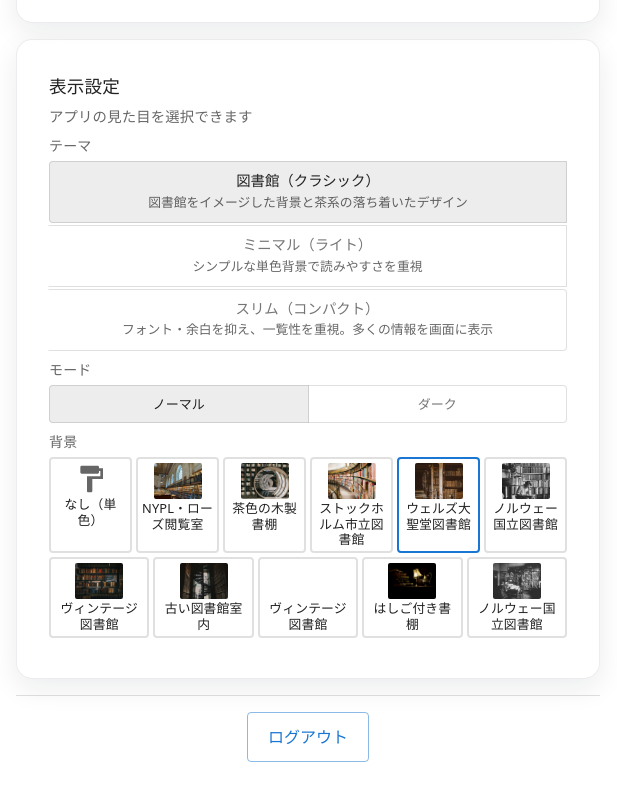
Test case: Settings › 背景「なし」選択時に色選択が表示される
(page scrolled)
Click the element with test id "background-preset-none". click: (90, 505)
box: x1=49 y1=457 x2=132 y2=553
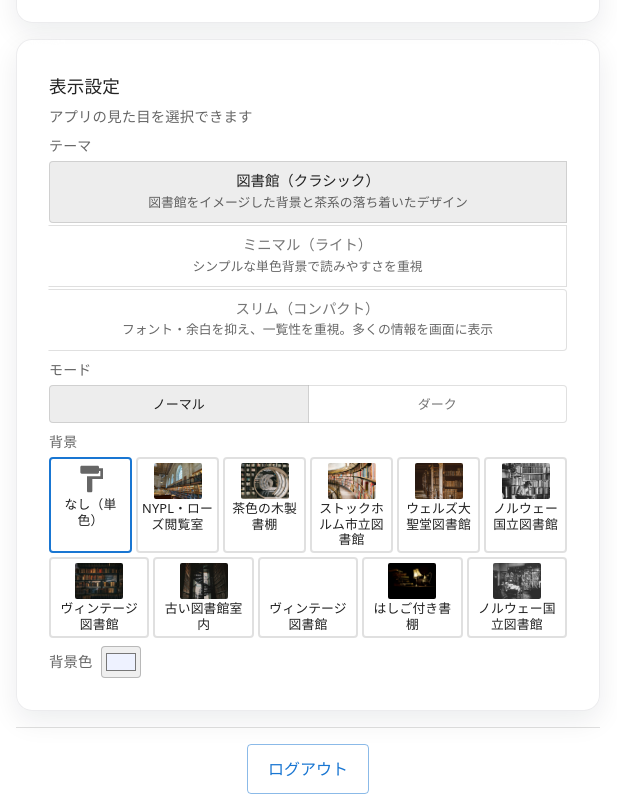
Result: the element with test id "background-color-picker" is shown at x1=49 y1=646 x2=141 y2=678
Result: the colour field with test id "background-color-input" is shown at x1=101 y1=646 x2=141 y2=678
